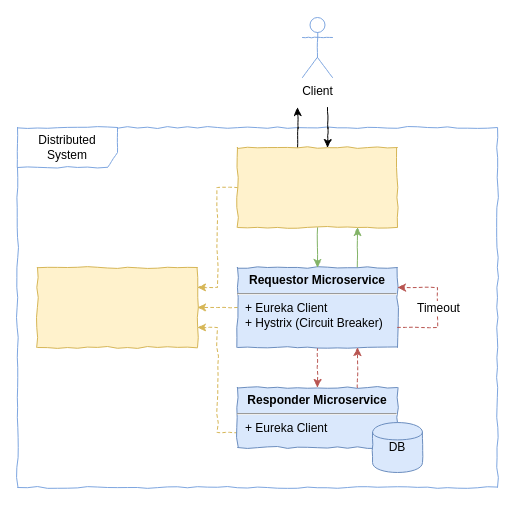
This 515x505 diagram has some shape labels left out. Here are the shapes that lost their labels. From the top down, the centre of each, then its label:
At pixel 317 187: "API Gateway + Eureka Client + Zuul".
At pixel 117 307: "Service Registry + Eureka Server".
